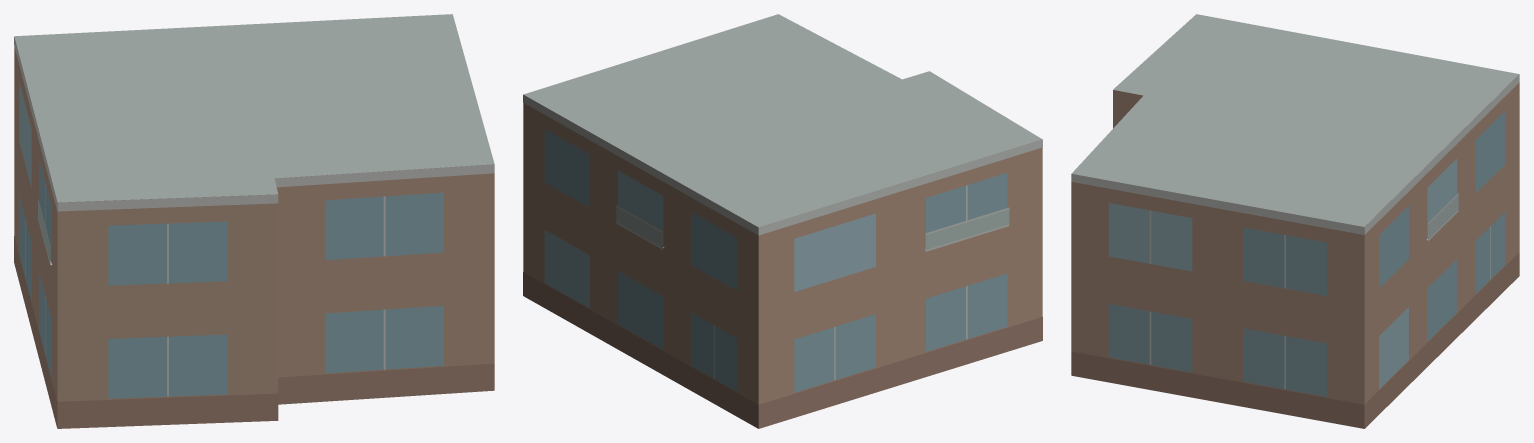
The model's file is survey-upis-32736536.glb.
The picture shows the model from 3 angles, left to right: view 1: azimuth 30°, elevation 25°; view 2: azimuth 150°, elevation 25°; view 3: azimuth 270°, elevation 25°; orthographic projection. The views are drawn at different scales.
Parts seen in each view (by area): view 1: survey-upis-32736536.tmp; view 2: survey-upis-32736536.tmp; view 3: survey-upis-32736536.tmp.
Part boxes in pixels (x1,y1,x2,y2): survey-upis-32736536.tmp: [14, 14, 494, 428]; survey-upis-32736536.tmp: [523, 14, 1042, 428]; survey-upis-32736536.tmp: [1071, 14, 1519, 428].
Bounding box in the file's own units: 13.82 × 6.1 × 12.29.
